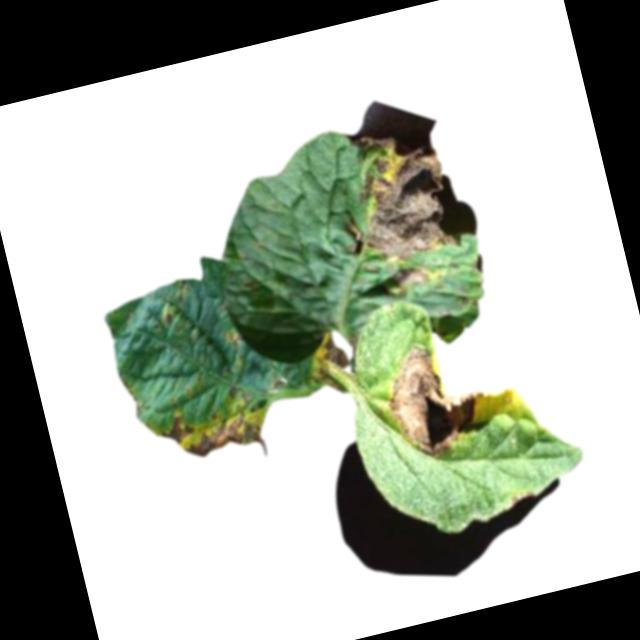Early_blight: (321, 114, 467, 268), (376, 331, 496, 464), (155, 389, 280, 464), (308, 327, 356, 392), (393, 261, 433, 288)
